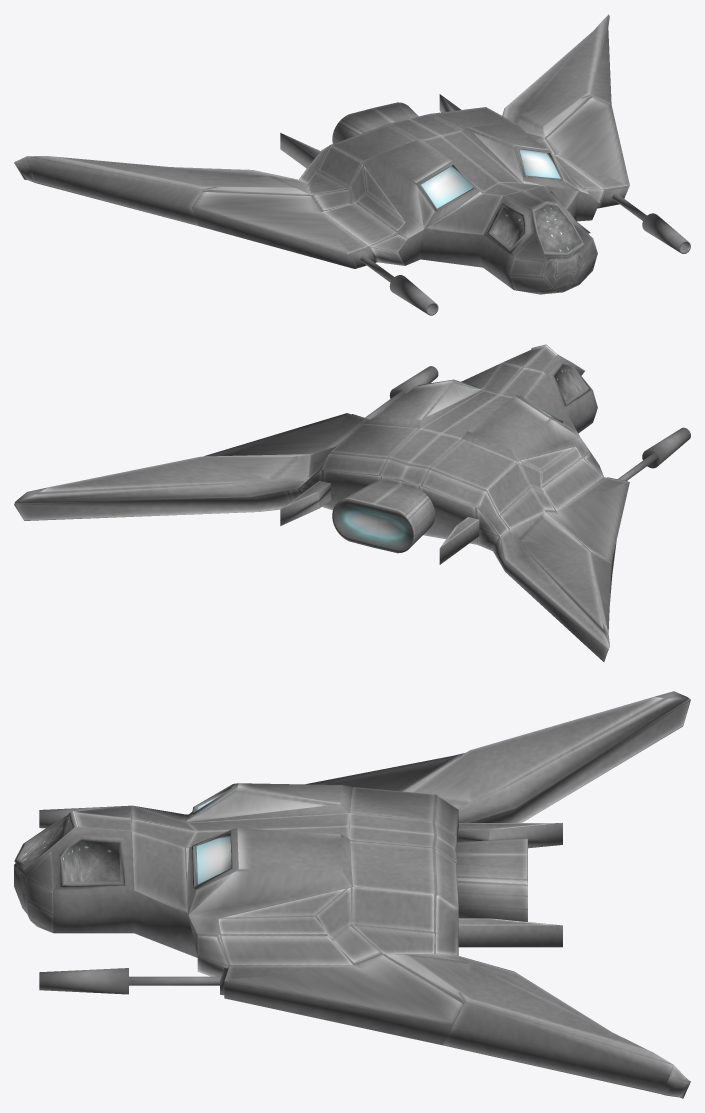
The model's file is SpaceShip.fbx.
3 views of the same model, one above another, from view 1: azimuth 30°, elevation 25°; view 2: azimuth 150°, elevation 25°; view 3: azimuth 270°, elevation 25° (orthographic). The views are drawn at different scales.
Visible parts, largest first — view 1: Cube; view 2: Cube; view 3: Cube.
Part boxes in pixels (x1,y1,x2,y2): Cube: (14,14,690,315); Cube: (14,344,690,661); Cube: (14,691,690,1098).
Size of the model in its own units: 15.02 by 1.95 by 11.25.
3 materials, 3 textured.
